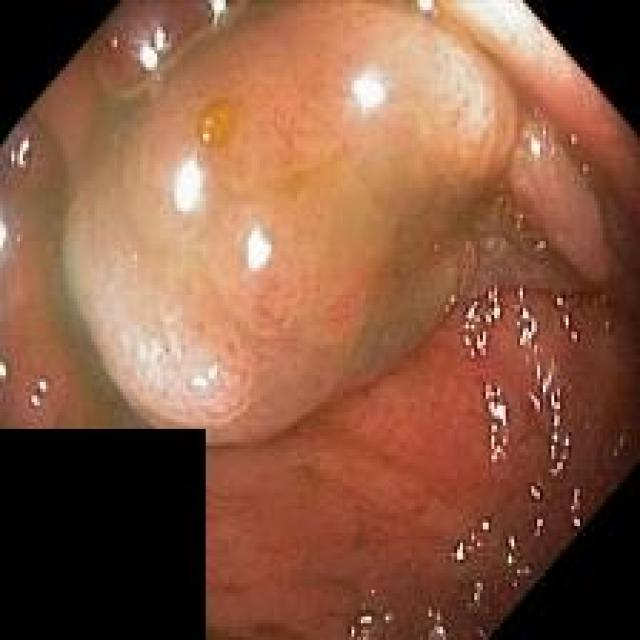Polyps: (65, 3, 516, 443)
